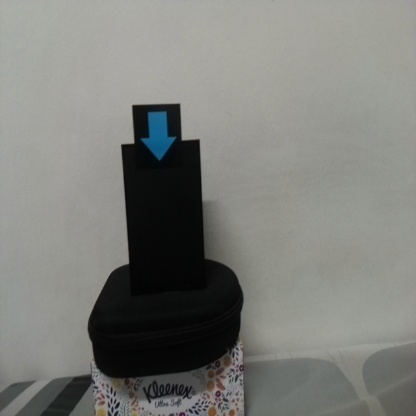id_2: (131, 105, 182, 166)
